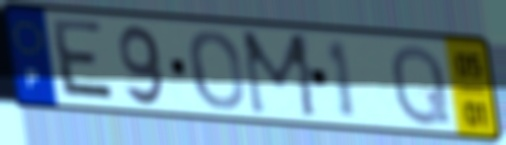1: (324, 37, 357, 122)
9: (116, 22, 167, 109)
E: (50, 15, 120, 106)
M: (238, 28, 322, 123)
O: (186, 28, 248, 113)
Q: (388, 40, 454, 129)
